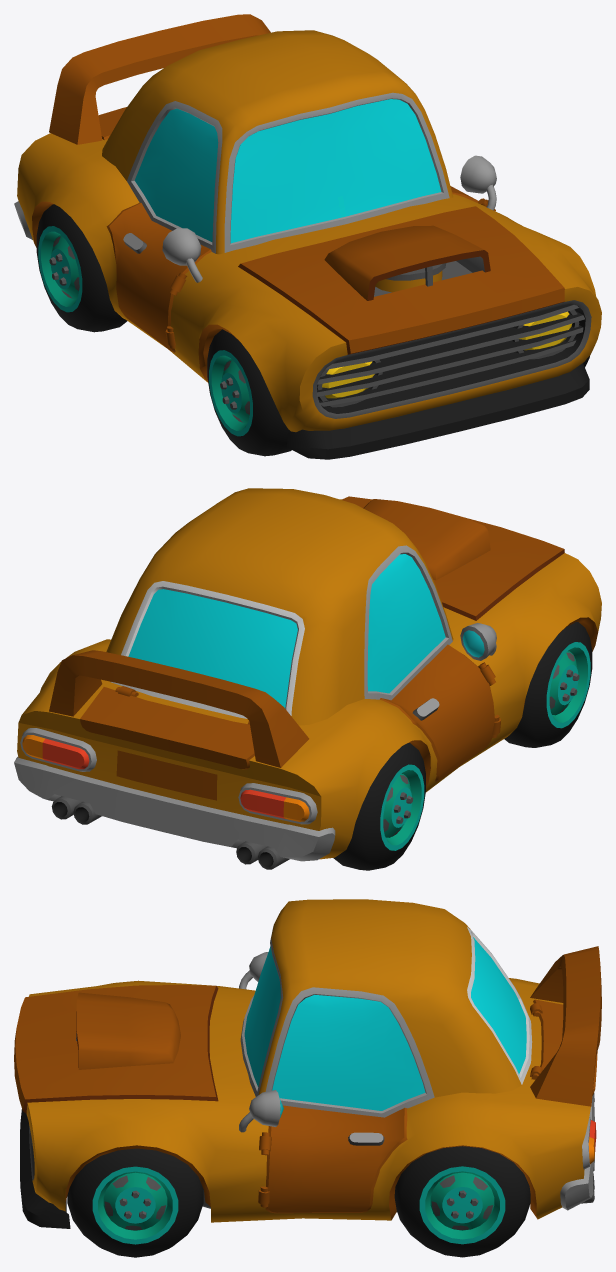
The model's file is VEH4-A.fbx.
3 views of the same model, one above another, from view 1: azimuth 30°, elevation 25°; view 2: azimuth 150°, elevation 25°; view 3: azimuth 270°, elevation 25° (orthographic). The views are drawn at different scales.
Visible parts, largest first — view 1: VEH4_A, V4A_Wheel_BR, V4A_Wheel_FR; view 2: VEH4_A, V4A_Wheel_BR, V4A_Wheel_FR; view 3: VEH4_A, V4A_Wheel_BL, V4A_Wheel_FL.
Boxes of the visible parts, box(x1,y1,x2,y2) form: VEH4_A: box(14, 14, 601, 459); V4A_Wheel_BR: box(36, 204, 127, 332); V4A_Wheel_FR: box(207, 329, 291, 456); VEH4_A: box(14, 488, 601, 869); V4A_Wheel_BR: box(333, 743, 425, 870); V4A_Wheel_FR: box(504, 622, 592, 747); VEH4_A: box(14, 899, 601, 1228); V4A_Wheel_BL: box(394, 1146, 530, 1257); V4A_Wheel_FL: box(67, 1148, 203, 1257).
Size of the model in its own units: 255 by 189 by 384.
1 material, 1 textured.
